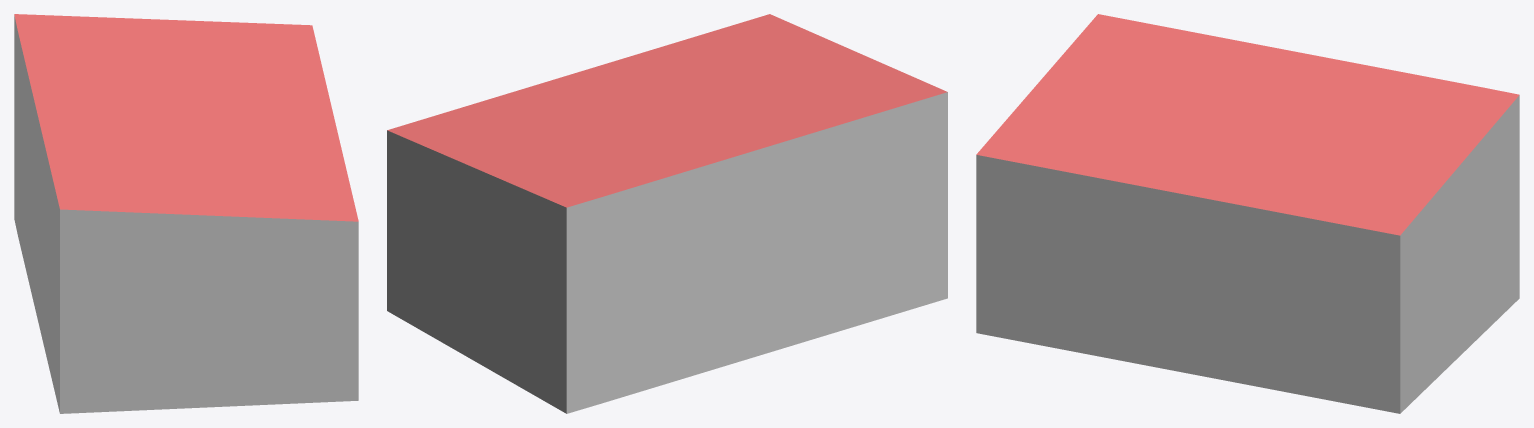
The model's file is DEBY_LOD2_4908131.gltf.
3 renders of one model, left to right at view 1: azimuth 30°, elevation 25°; view 2: azimuth 150°, elevation 25°; view 3: azimuth 270°, elevation 25°, orthographic.
Parts seen in each view (by area): view 1: Z_UP; view 2: Z_UP; view 3: Z_UP.
Boxes of the visible parts, <box> form: Z_UP: <box>14,14,358,413</box>; Z_UP: <box>387,14,947,413</box>; Z_UP: <box>976,14,1519,413</box>.
Size of the model in its own units: 8.35 by 4.04 by 9.77.
